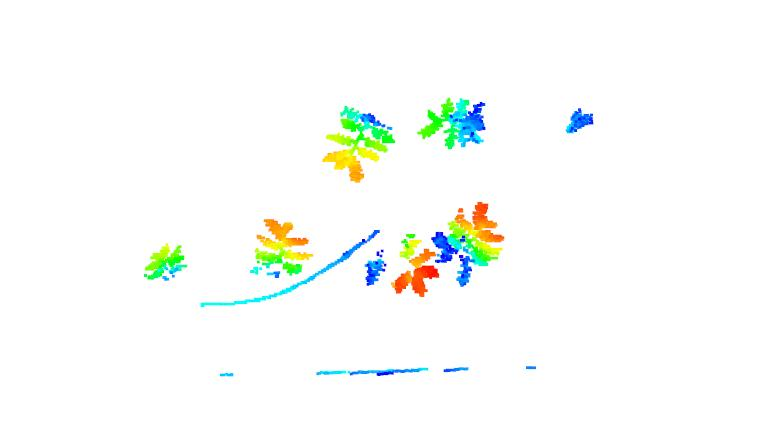chickpea: (432, 196, 507, 287), (321, 103, 393, 182), (361, 229, 437, 296), (249, 215, 314, 279), (419, 95, 489, 149), (141, 242, 189, 282), (565, 105, 602, 138)
